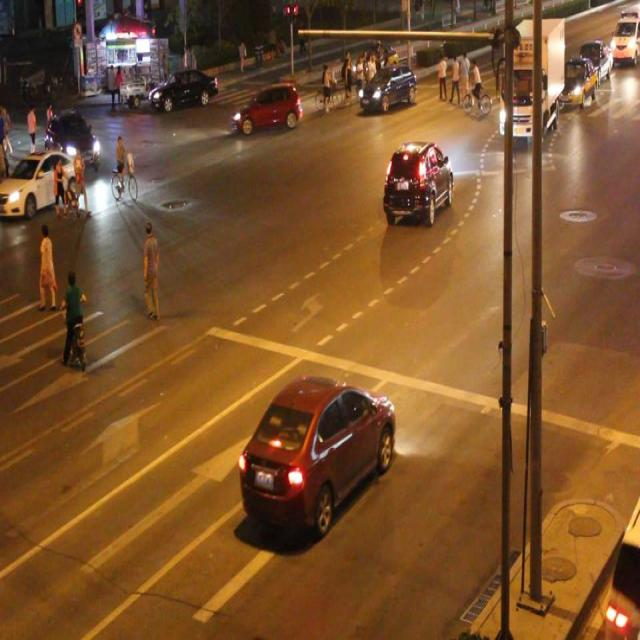bus: (499, 18, 564, 142)
car: (240, 372, 394, 526), (1, 147, 82, 219), (384, 143, 452, 222), (607, 496, 639, 640), (232, 81, 301, 134), (45, 110, 98, 166), (358, 61, 415, 112), (152, 67, 217, 110)
